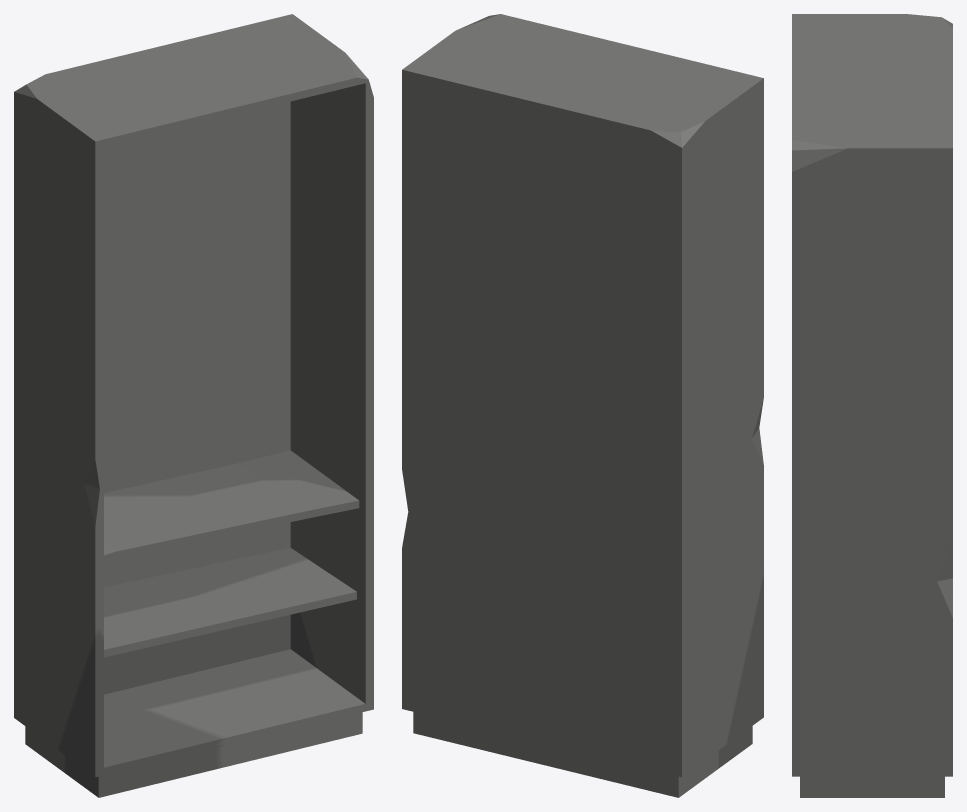
Rendered from SM_Prop_Cabinet_01.glb.
3 views of the same model, side by side, from view 1: azimuth 30°, elevation 25°; view 2: azimuth 150°, elevation 25°; view 3: azimuth 270°, elevation 25° (orthographic).
Parts seen in each view (by area): view 1: SM_Prop_Cabinet_01; view 2: SM_Prop_Cabinet_01; view 3: SM_Prop_Cabinet_01.
Part boxes in pixels (box(x1,y1,x2,y2)): SM_Prop_Cabinet_01: box(14, 14, 373, 797); SM_Prop_Cabinet_01: box(402, 14, 763, 797); SM_Prop_Cabinet_01: box(792, 14, 952, 797).
Size of the model in its own units: 1.05 by 2.38 by 0.5318.
Materials: 1 (1 with a texture image).
